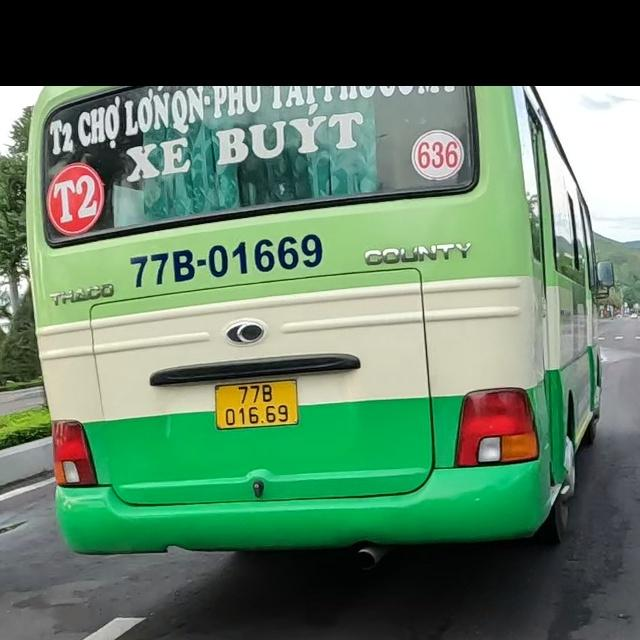license-plate: (215, 379, 300, 430)
